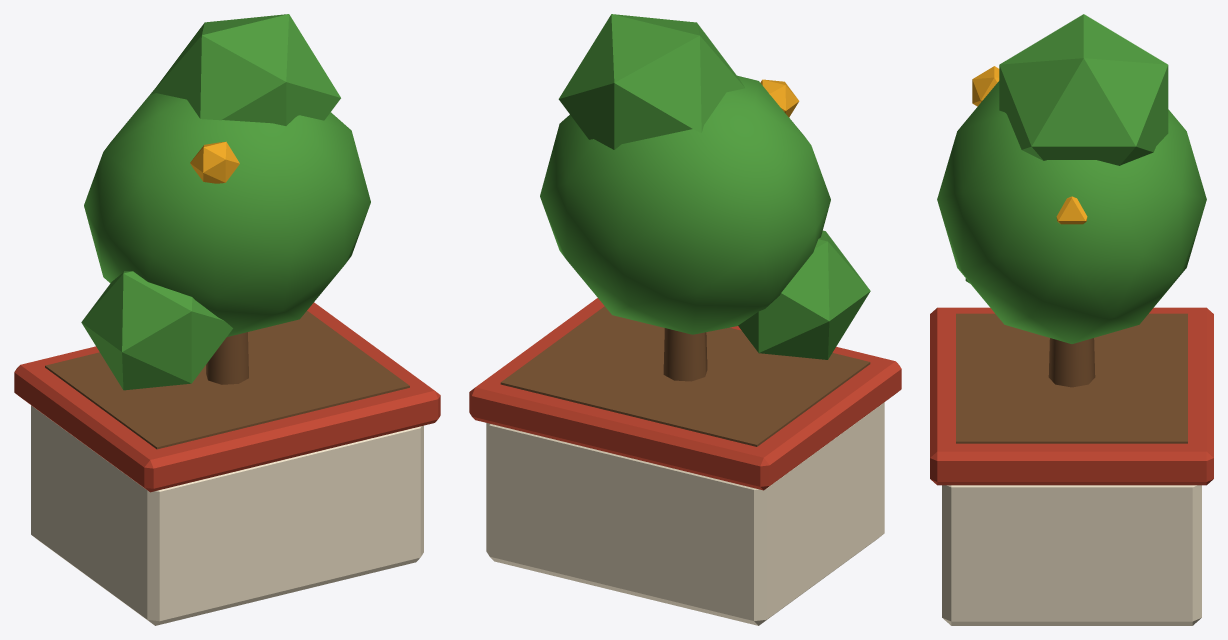
The model's file is planter.glb.
The picture shows the model from 3 angles, left to right: view 1: azimuth 30°, elevation 25°; view 2: azimuth 150°, elevation 25°; view 3: azimuth 270°, elevation 25°; orthographic projection. The views are drawn at different scales.
Parts seen in each view (by area): view 1: pot, bush_main, soil, pot_rim, bush_top, bush_side, stem, flower_1; view 2: pot, bush_main, soil, pot_rim, bush_top, bush_side, stem, flower_1; view 3: bush_main, pot, soil, pot_rim, bush_top, stem, flower_1, flower_0.
Boxes of the visible parts, <box> form: pot: <box>31,405,423,625</box>; bush_main: <box>84,90,370,336</box>; soil: <box>45,311,409,449</box>; pot_rim: <box>14,302,440,492</box>; bush_top: <box>150,14,340,125</box>; bush_side: <box>81,271,232,390</box>; stem: <box>206,332,248,384</box>; flower_1: <box>190,141,239,183</box>; pot: <box>486,402,884,625</box>; bush_main: <box>540,75,830,334</box>; soil: <box>500,306,870,446</box>; pot_rim: <box>469,298,901,490</box>; bush_top: <box>558,14,744,149</box>; bush_side: <box>738,230,870,359</box>; stem: <box>663,328,707,381</box>; flower_1: <box>760,79,799,117</box>; bush_main: <box>937,81,1206,343</box>; pot: <box>942,485,1201,625</box>; soil: <box>956,313,1187,443</box>; pot_rim: <box>930,307,1213,485</box>; bush_top: <box>999,14,1168,165</box>; stem: <box>1048,338,1095,387</box>; flower_1: <box>972,66,999,106</box>; flower_0: <box>1056,196,1087,224</box>.
Size of the model in its own units: 1.5 by 2.5 by 1.2.
